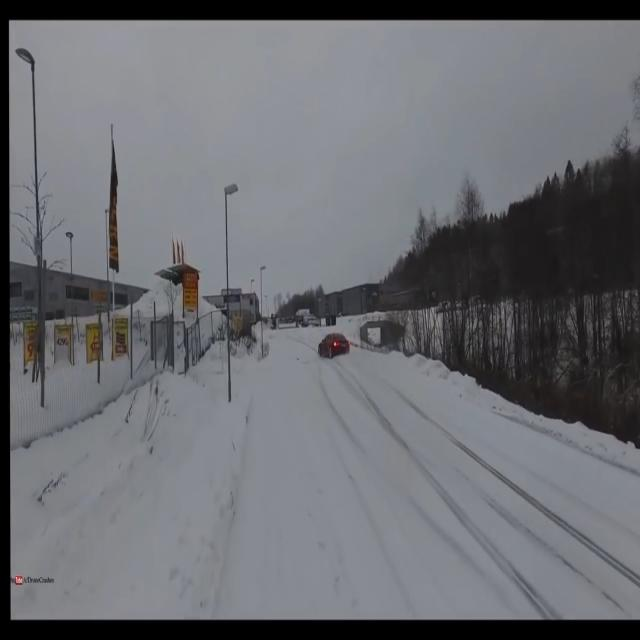Pole: (12, 42, 40, 379), (218, 180, 240, 404), (256, 262, 266, 360)
Vehicle: (315, 324, 351, 365)
